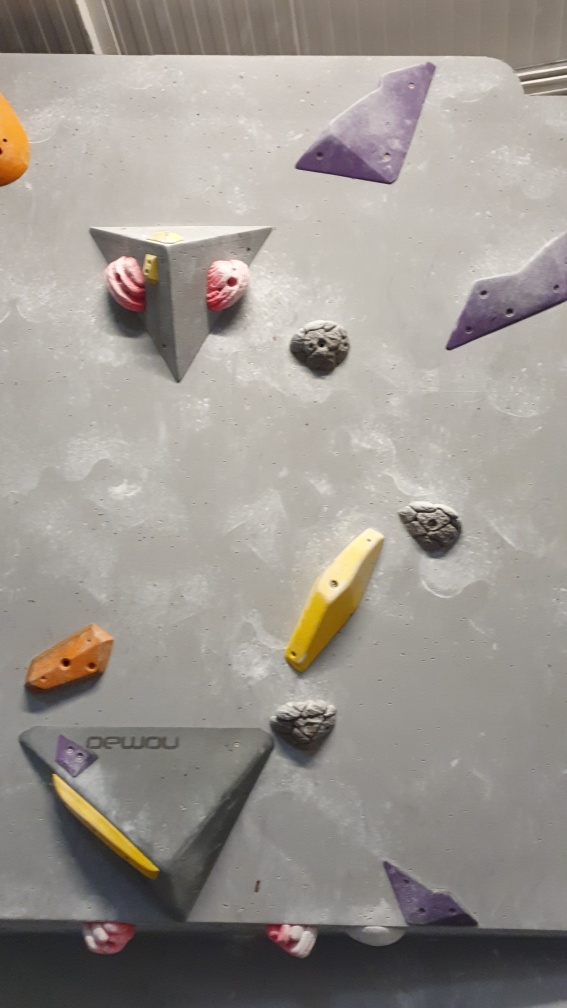Crimp: (51, 731, 101, 783)
Jug: (267, 692, 336, 757), (395, 497, 466, 555), (287, 318, 356, 376), (257, 919, 324, 967), (206, 251, 251, 313), (104, 253, 147, 315), (83, 923, 138, 958)
Pinch: (287, 521, 387, 677), (18, 619, 119, 693)
